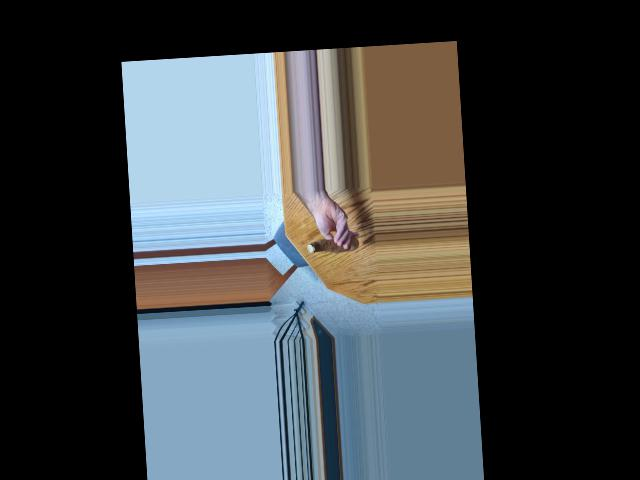sweet_potato: (310, 233, 356, 258)
